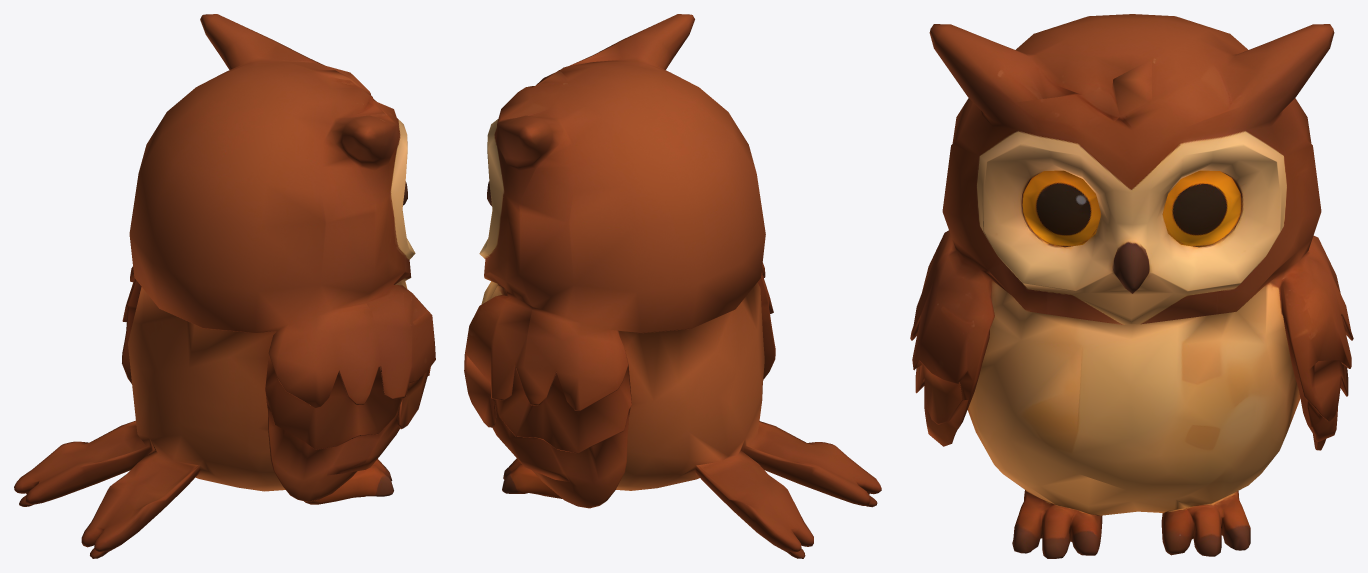
3 views of the same model, side by side, from view 1: azimuth 30°, elevation 25°; view 2: azimuth 150°, elevation 25°; view 3: azimuth 270°, elevation 25° (orthographic). The views are drawn at different scales.
Visible parts, largest first — view 1: tripo_node_1bbb747f-bcff-4821-9dc4-8c4612f1776b; view 2: tripo_node_1bbb747f-bcff-4821-9dc4-8c4612f1776b; view 3: tripo_node_1bbb747f-bcff-4821-9dc4-8c4612f1776b.
Part boxes in pixels (x1,y1,x2,y2): tripo_node_1bbb747f-bcff-4821-9dc4-8c4612f1776b: [14, 14, 435, 558]; tripo_node_1bbb747f-bcff-4821-9dc4-8c4612f1776b: [464, 14, 881, 558]; tripo_node_1bbb747f-bcff-4821-9dc4-8c4612f1776b: [910, 14, 1353, 558].
Size of the model in its own units: 0.9139 by 0.998 by 0.8082.
Materials: 1 (1 with a texture image).
